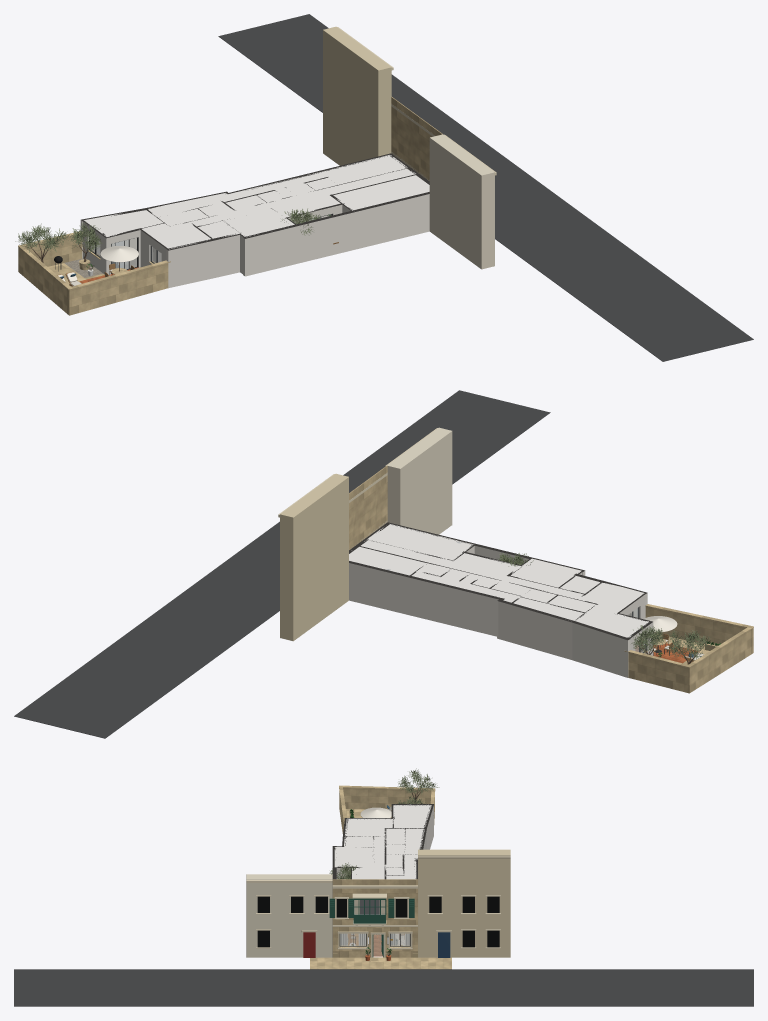
Rendered from flat.glb.
3 renders of one model, top to bottom at view 1: azimuth 30°, elevation 25°; view 2: azimuth 150°, elevation 25°; view 3: azimuth 270°, elevation 25°, orthographic. The views are drawn at different scales.
Parts seen in each view (by area): view 1: street, streetset_neighbors, Walls, GardenWalls, ceil_corr, streetset_upper, ceil_kitB, ceil_kitA, ceil_gym, ceil_bed2, ceil_bed1, furn_yard_tree (+5 smaller); view 2: street, streetset_neighbors, Walls, GardenWalls, ceil_corr, streetset_upper, ceil_kitB, ceil_bed2, ceil_gym, ceil_kitA, ceil_bed1, furn_yard_tree (+4 smaller); view 3: street, streetset_neighbors, streetset_upper, GardenWalls, Facade, pavement, Walls, ceil_gym, ceil_bed2, ceil_bed1, ceil_corr, Openings (+2 smaller).
Part boxes in pixels (x1,y1,x2,y2): street: (218,14,753,361); streetset_neighbors: (323,26,496,269); Walls: (80,153,429,288); GardenWalls: (18,232,170,315); ceil_corr: (189,168,415,226); streetset_upper: (391,97,442,180); ceil_kitB: (333,175,429,210); ceil_kitA: (321,155,407,184); ceil_gym: (84,210,163,236); ceil_bed2: (223,208,294,237); ceil_bed1: (142,222,210,249); furn_yard_tree: (15,223,70,262); street: (14,390,550,738); streetset_neighbors: (278,427,452,641); Walls: (349,522,653,677); GardenWalls: (624,604,753,693); ceil_corr: (361,540,583,599); streetset_upper: (349,465,387,549); ceil_kitB: (367,524,473,560); ceil_bed2: (511,558,581,587); ceil_gym: (575,608,648,637); ceil_kitA: (349,546,427,575); ceil_bed1: (578,582,644,613); furn_yard_tree: (666,630,714,664); street: (14,969,753,1006); streetset_neighbors: (246,849,510,957); streetset_upper: (329,879,417,926); GardenWalls: (339,785,435,833); Facade: (332,927,417,957); pavement: (310,957,451,969); Walls: (332,804,433,879); ceil_gym: (393,804,431,827); ceil_bed2: (334,847,373,867); ceil_bed1: (345,818,393,836); ceil_corr: (352,836,385,879); Openings: (337,875,410,957).
Size of what is drawn, in the model's own units: 38.59 by 9.23 by 60.
83 materials, 28 textured.
